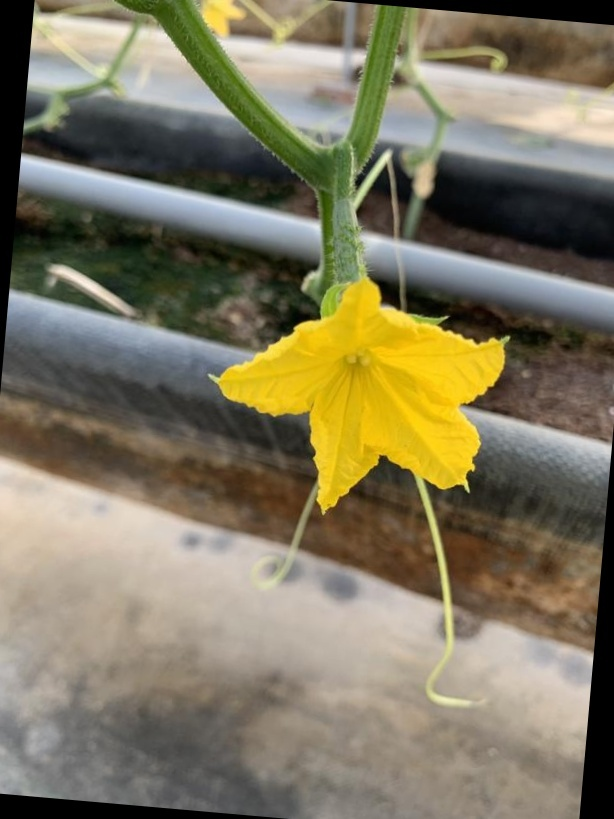mature: (207, 176, 518, 524)
